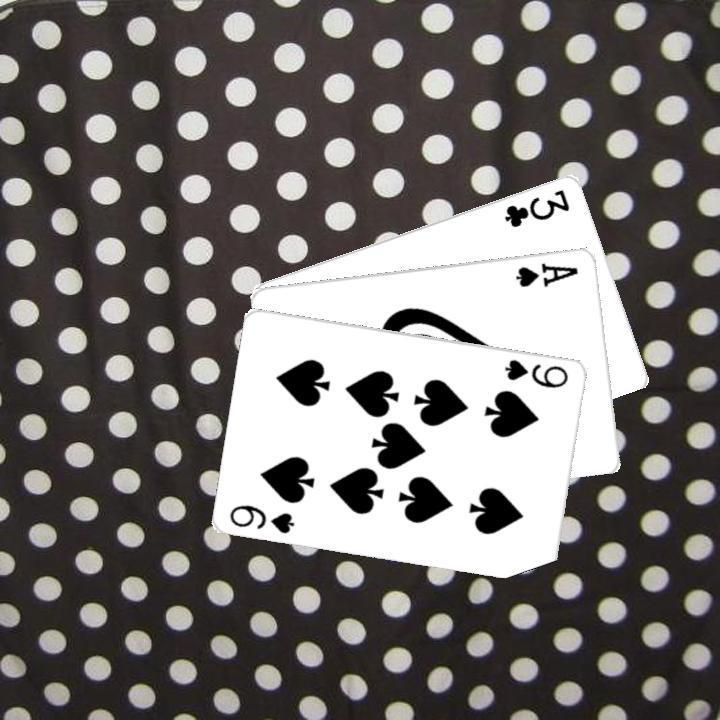3: (500, 184, 572, 229)
9: (500, 354, 571, 390), (226, 500, 297, 535)
A: (512, 257, 581, 288)
